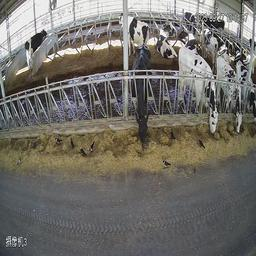cow: (178, 45, 218, 133), (133, 46, 154, 145), (217, 56, 242, 134), (120, 11, 150, 46), (240, 60, 255, 123), (25, 29, 47, 68), (156, 26, 177, 58), (203, 26, 217, 71), (178, 29, 201, 52), (218, 38, 232, 64), (242, 47, 255, 74), (184, 10, 198, 33), (200, 13, 217, 29), (217, 20, 226, 32)
